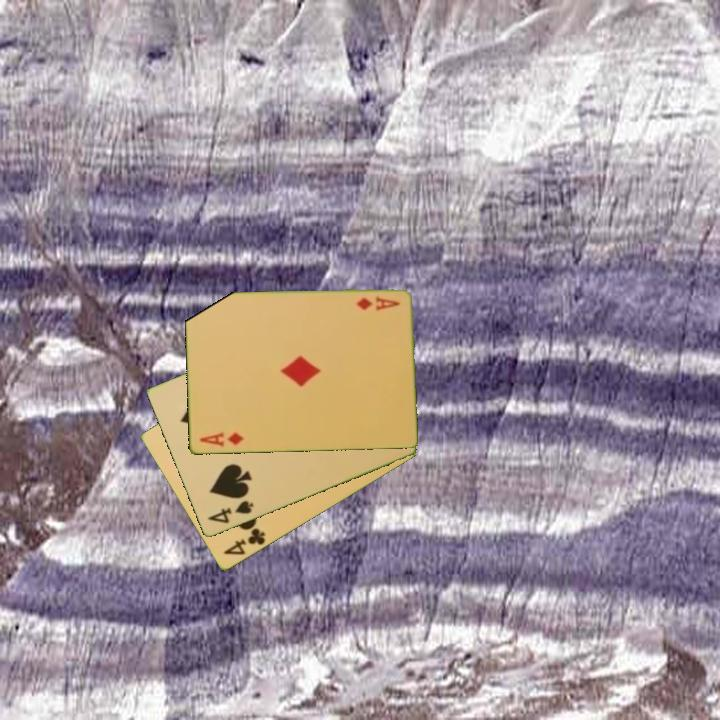4c: (220, 525, 268, 559)
4s: (204, 497, 256, 527)
Ad: (196, 428, 246, 450), (352, 293, 403, 314)
